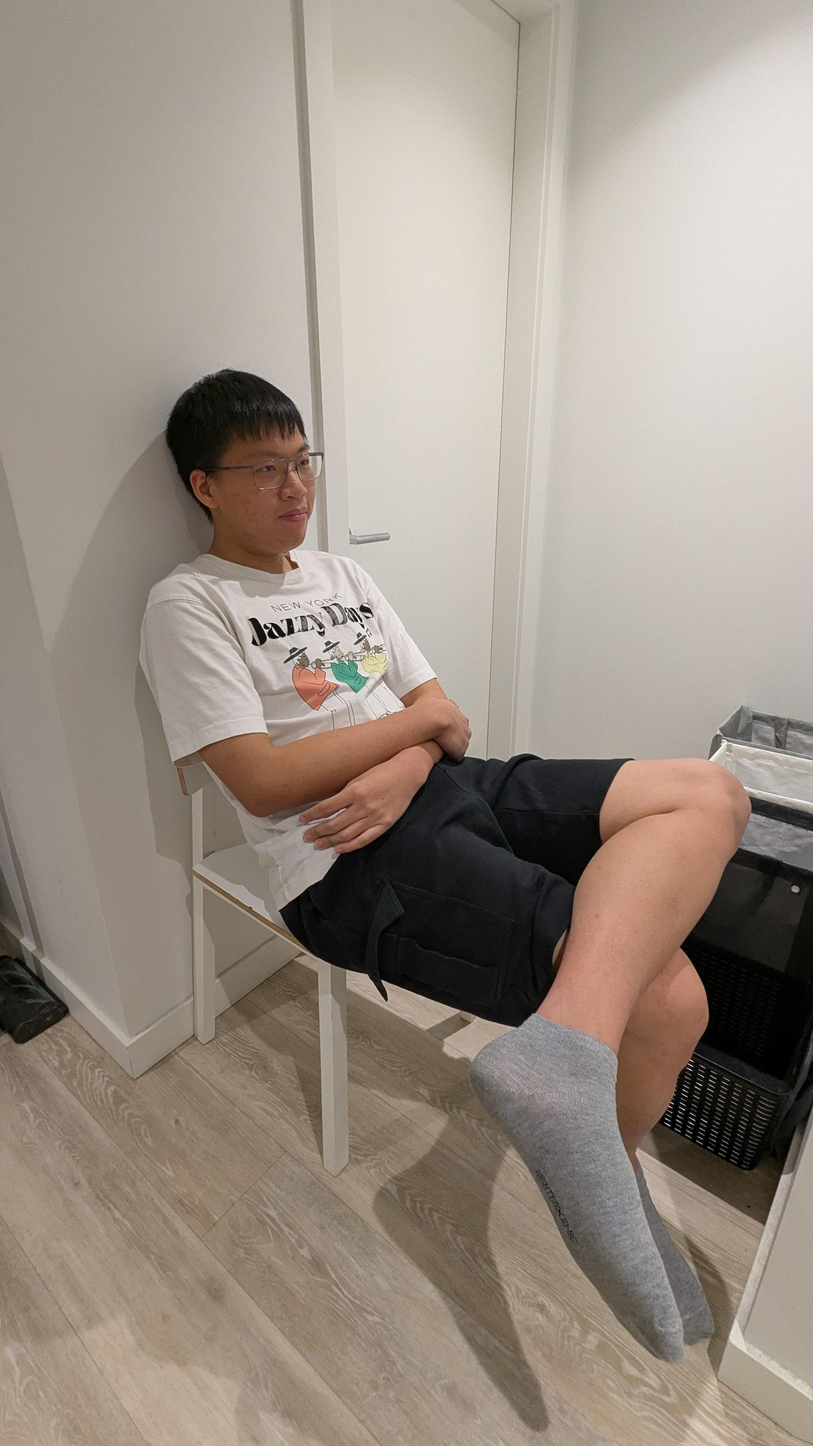BadPosture: (140, 369, 751, 1363)
